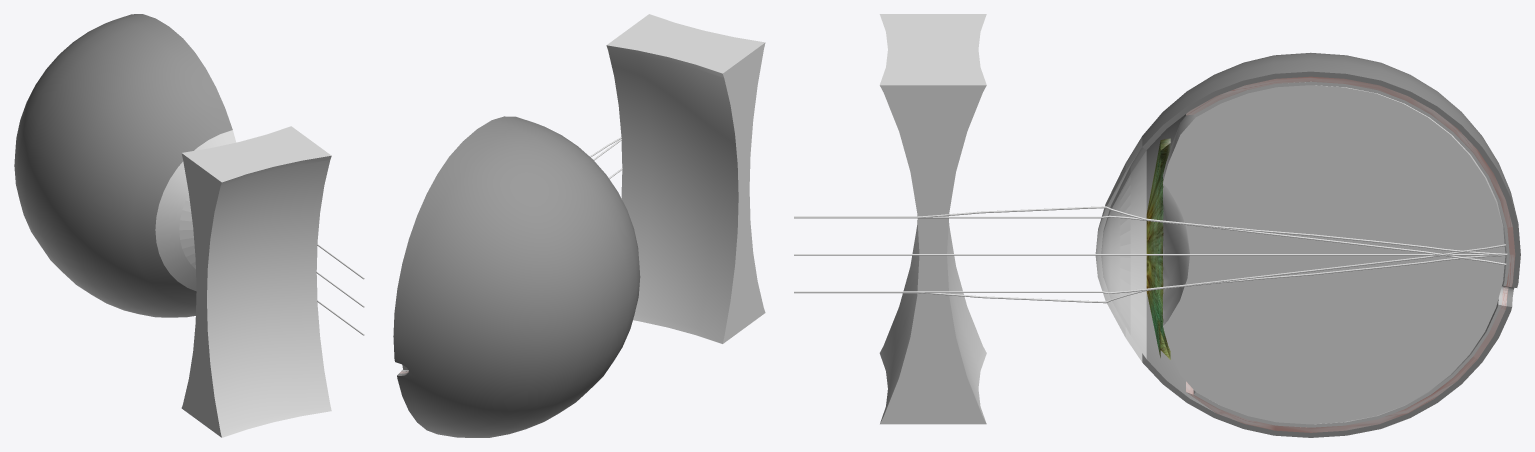
Rendered from MyopiaEye.FBX.
3 renders of one model, left to right at view 1: azimuth 30°, elevation 25°; view 2: azimuth 150°, elevation 25°; view 3: azimuth 270°, elevation 25°, orthographic. The views are drawn at different scales.
Parts seen in each view (by area): view 1: bSclera, cCorrectiveLens, bCornea; view 2: bSclera, cCorrectiveLens; view 3: bCorpusVitreum, cCorrectiveLens, bSclera, bCornea, bChoroidea, bRetina, bIris, cAfter2, cBefore2, cAfter3, cBefore3, cBefore1.
Part boxes in pixels (x1=…): bSclera: x1=14, y1=14, x2=232, y2=317; cCorrectiveLens: x1=181, y1=126, x2=331, y2=437; bCornea: x1=155, y1=130, x2=236, y2=291; bSclera: x1=393, y1=116, x2=640, y2=437; cCorrectiveLens: x1=606, y1=14, x2=765, y2=343; bCorpusVitreum: x1=1162, y1=85, x2=1505, y2=424; cCorrectiveLens: x1=879, y1=14, x2=986, y2=424; bSclera: x1=1142, y1=52, x2=1520, y2=437; bCornea: x1=1095, y1=136, x2=1146, y2=361; bChoroidea: x1=1186, y1=76, x2=1515, y2=432; bRetina: x1=1193, y1=81, x2=1509, y2=427; bIris: x1=1146, y1=138, x2=1170, y2=359; cAfter2: x1=794, y1=206, x2=1507, y2=255; cBefore2: x1=794, y1=215, x2=1506, y2=265; cAfter3: x1=794, y1=255, x2=1507, y2=303; cBefore3: x1=794, y1=244, x2=1506, y2=293; cBefore1: x1=794, y1=254, x2=1504, y2=255.
Size of the model in its own units: 0.4336 by 0.8504 by 1.53.
